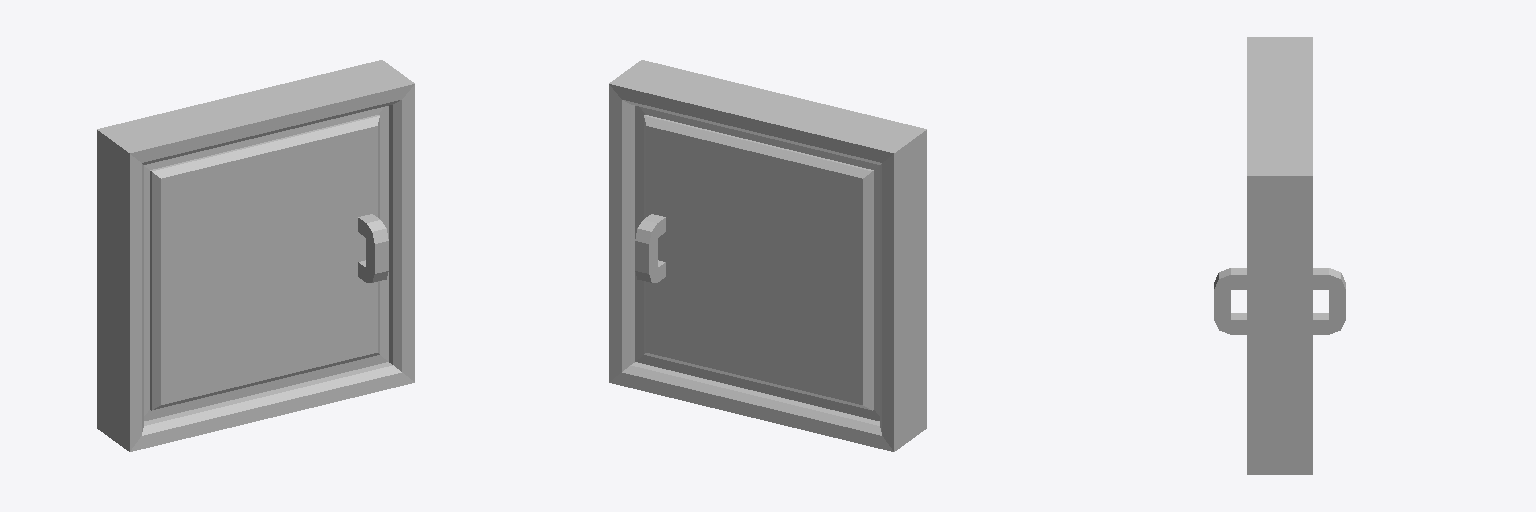
Rendered from door.obj.
3 views of the same model, side by side, from view 1: azimuth 30°, elevation 25°; view 2: azimuth 150°, elevation 25°; view 3: azimuth 270°, elevation 25° (orthographic).
Visible parts, largest first — view 1: Circle_Circle.001; view 2: Circle_Circle.001; view 3: Circle_Circle.001.
Part boxes in pixels (x1,y1,x2,y2): Circle_Circle.001: (97,60,414,451); Circle_Circle.001: (609,60,926,451); Circle_Circle.001: (1214,37,1345,474).
Bounding box in the file's own units: 2 × 2 × 0.8.